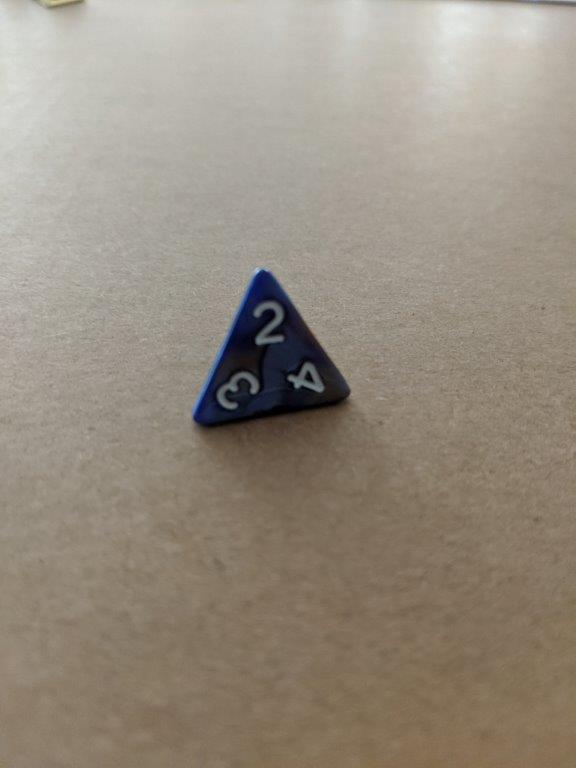d4-2: (190, 264, 360, 441)
